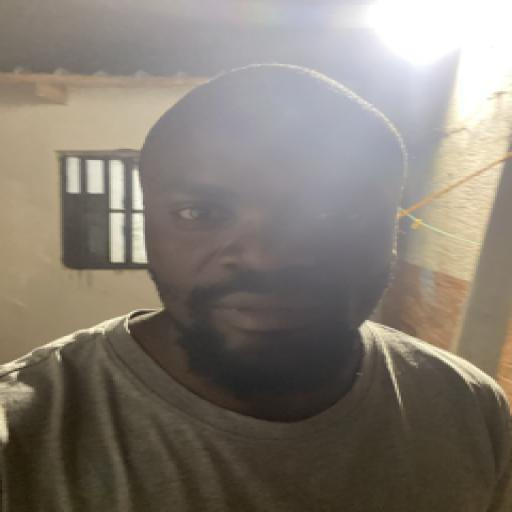JEANLUC: (130, 52, 408, 386)
